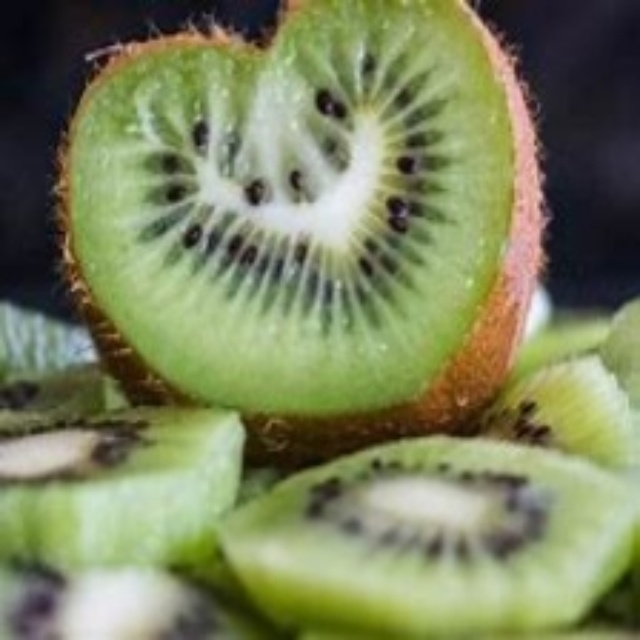kiwi: (66, 7, 559, 451), (7, 400, 625, 628)
